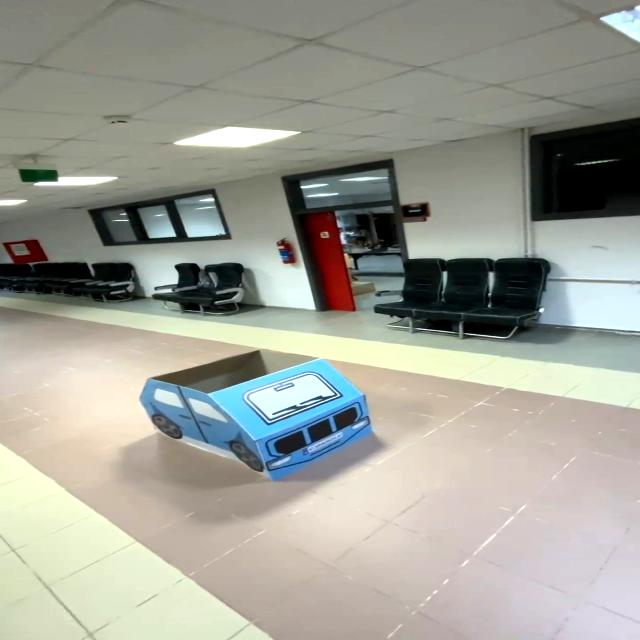blue_car: (126, 334, 428, 507)
